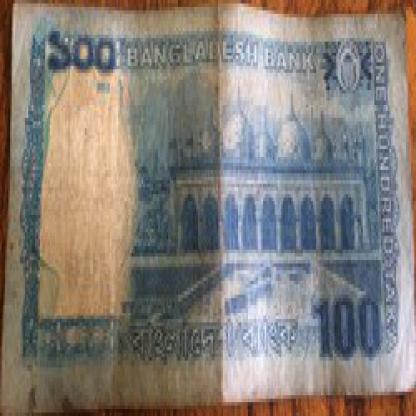one hundred taka: (315, 291, 386, 371), (43, 20, 122, 86)
